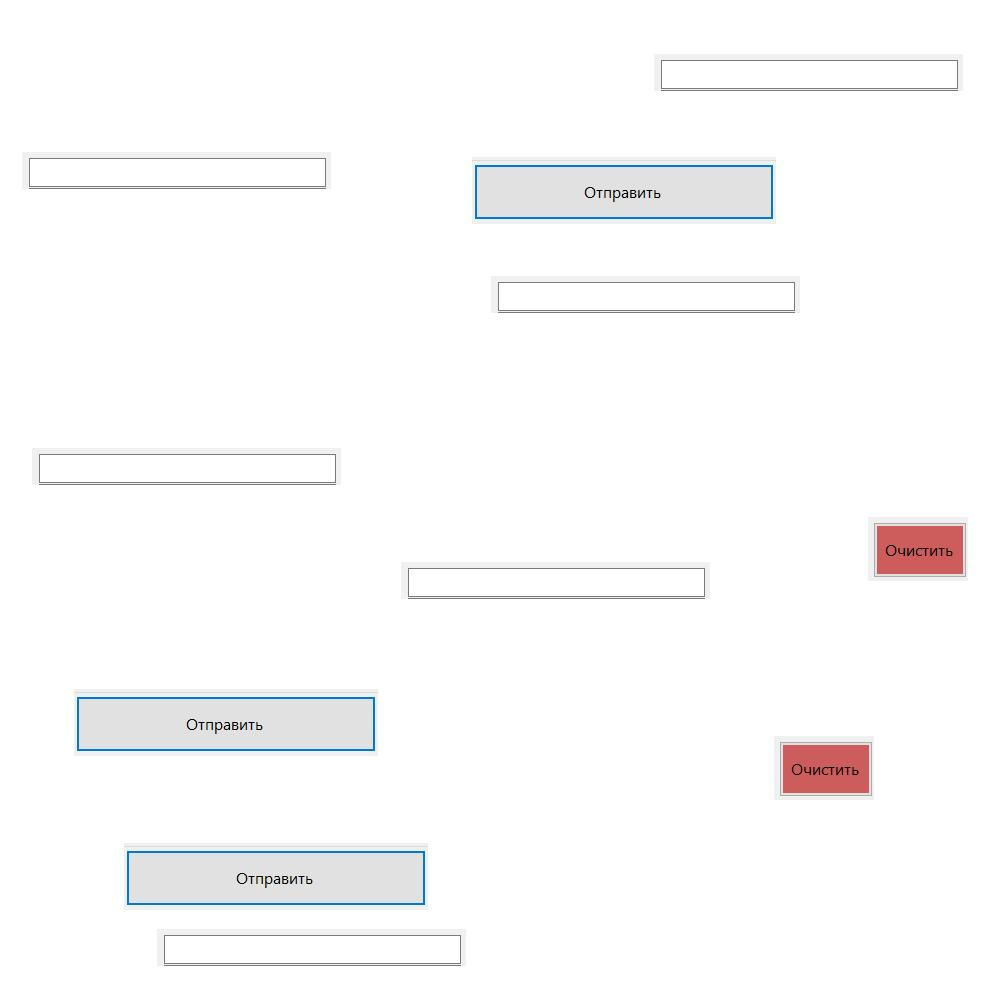Button: (472, 157, 776, 224), (74, 689, 378, 756), (124, 843, 428, 910), (868, 517, 968, 581), (774, 736, 874, 800)
EditText-: (157, 929, 466, 966), (22, 152, 331, 189), (491, 276, 800, 313), (401, 562, 710, 599), (654, 54, 963, 91), (32, 448, 341, 485)
